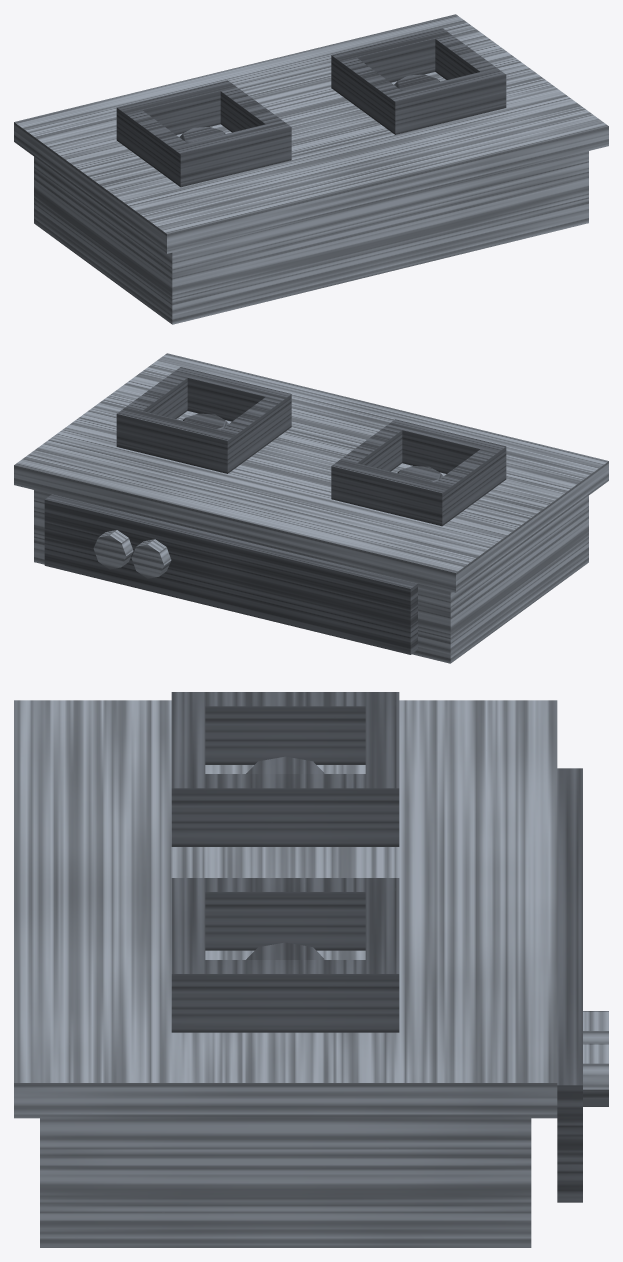
The model's file is gas_cooker.fbx.
3 renders of one model, top to bottom at view 1: azimuth 30°, elevation 25°; view 2: azimuth 150°, elevation 25°; view 3: azimuth 270°, elevation 25°, orthographic. The views are drawn at different scales.
Parts seen in each view (by area): view 1: gas_cooker; view 2: gas_cooker; view 3: gas_cooker.
Boxes of the visible parts, x1,y1,x2,y2 form: gas_cooker: (14, 14, 608, 324); gas_cooker: (14, 353, 608, 663); gas_cooker: (14, 692, 608, 1247).
Size of the model in its own units: 70 by 20 by 46.
